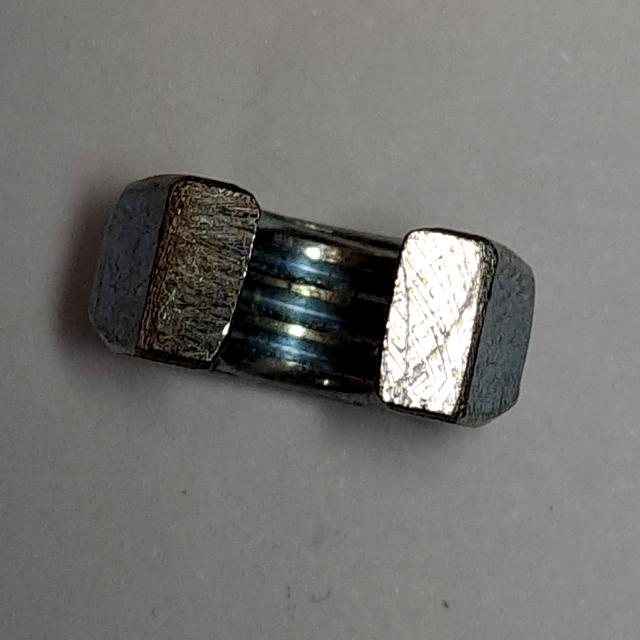Side-Fracture: (79, 156, 547, 453)
